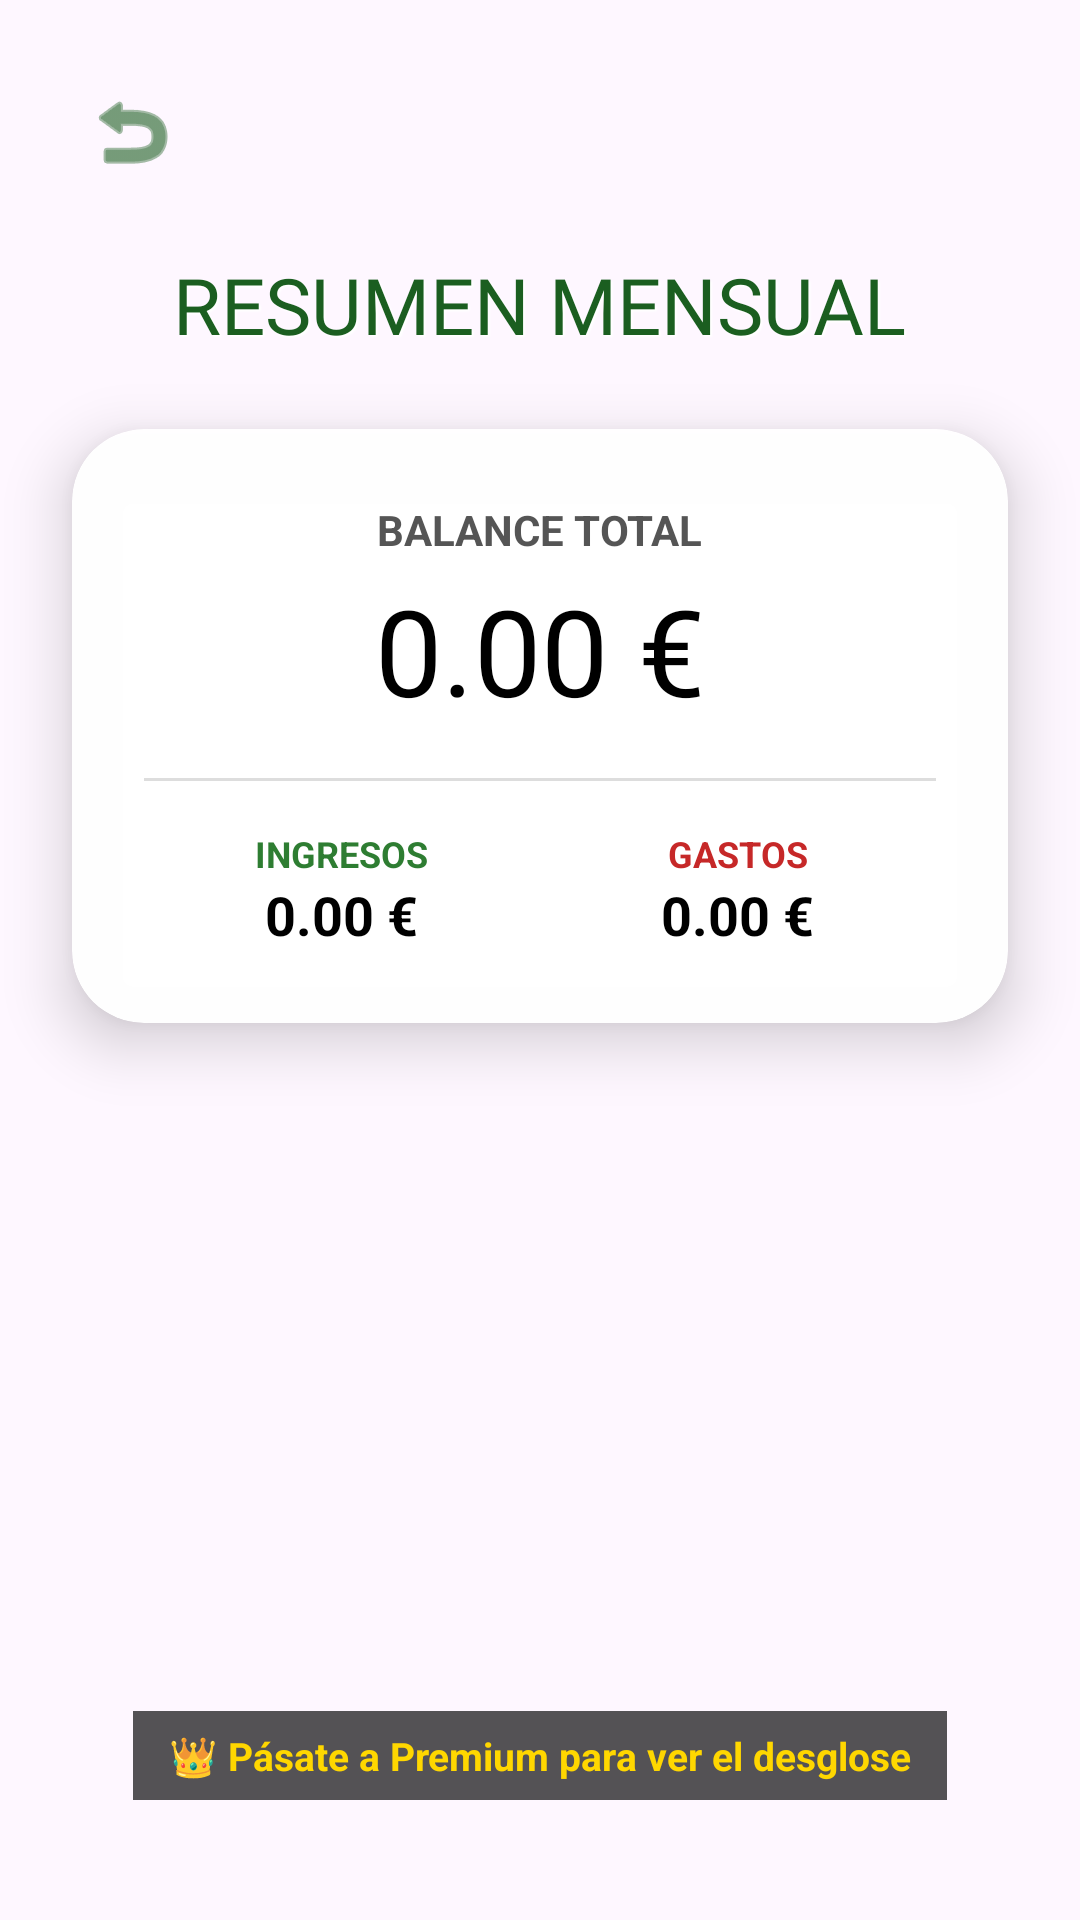

Where to tap for icons on this 1080x1920 app screen, as point (x, y):
Volver: point (133, 132)
